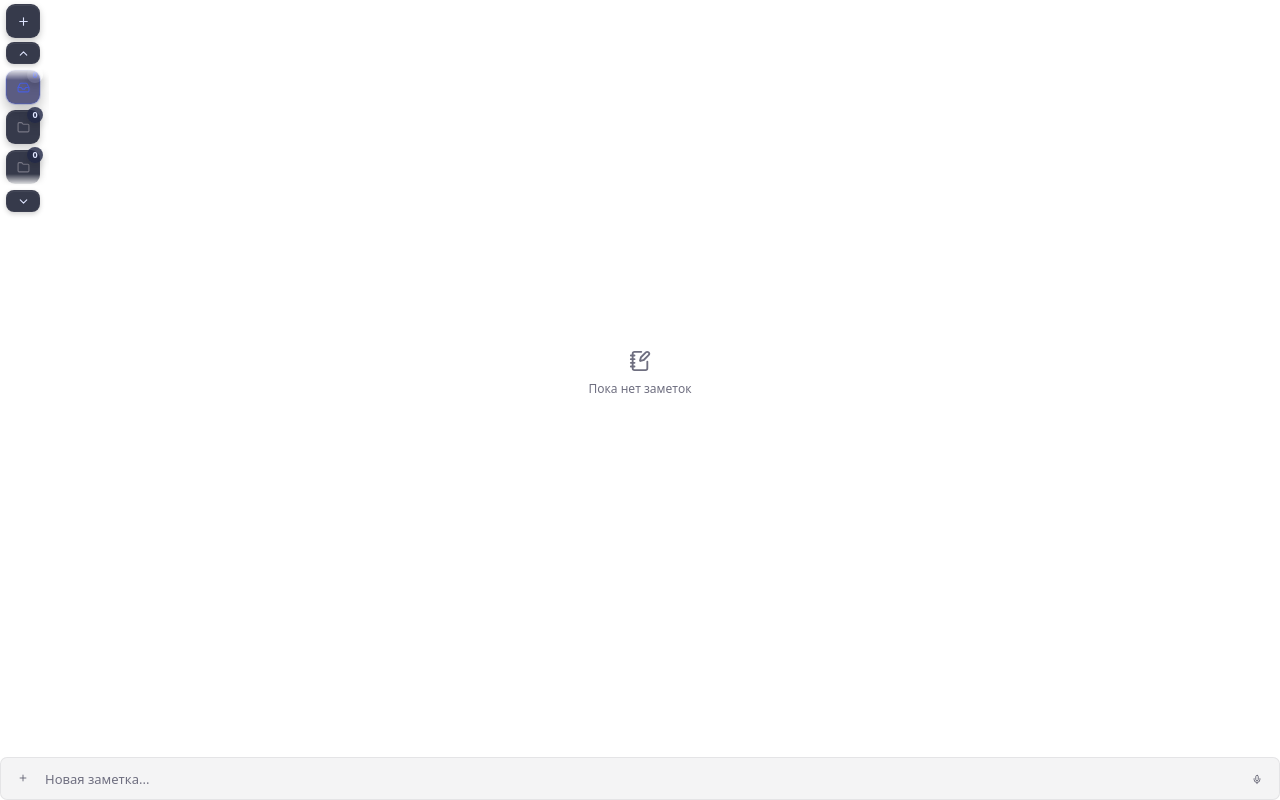
NotesView › adds a note through the quick-add form in the active folder
The image size is (1280, 800).
Expected: the 1st button titled "Все" is shown, [6,70,40,104]
Step 1. Click the 3rd button titled "Проект" → (23, 167), box [6,150,40,184]
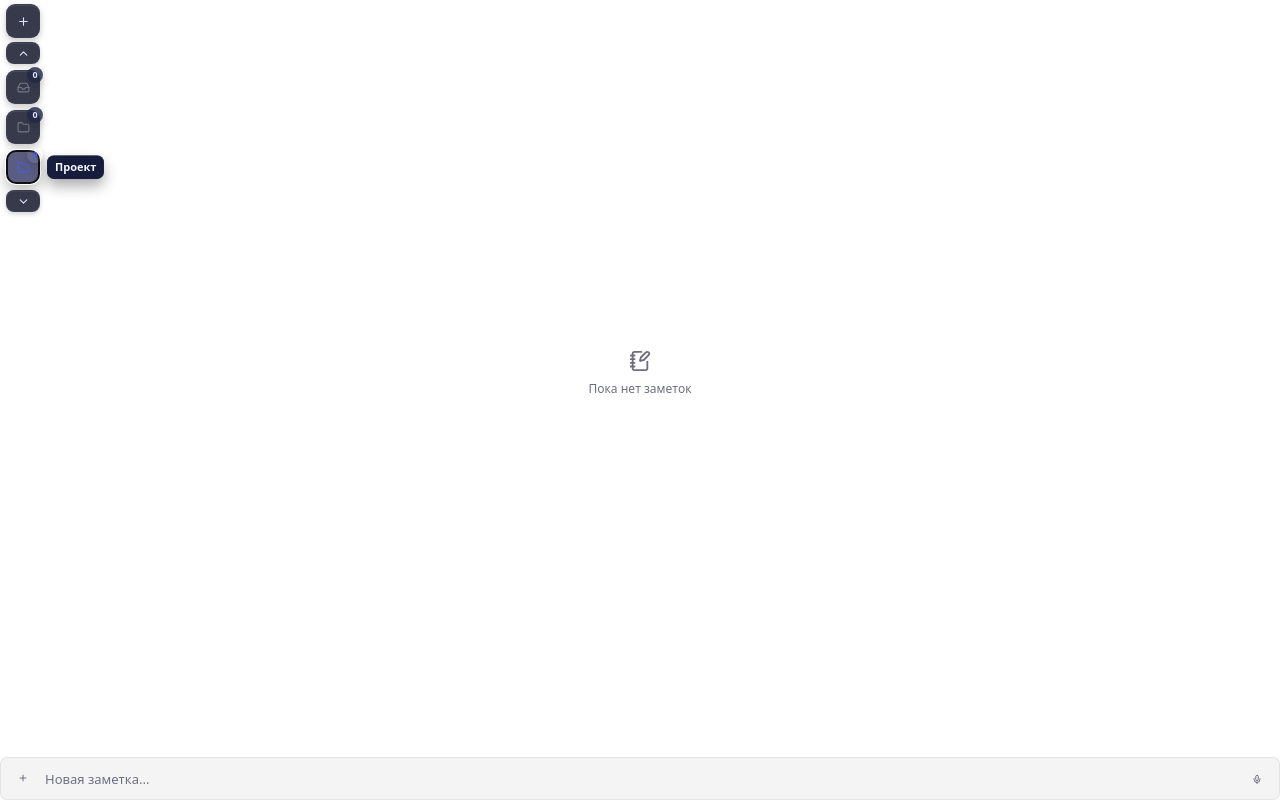
Step 2. Type "Новая заметка" into the text box with placeholder "Новая заметка..." → (640, 780), box [43,770,1237,791]
Then press Enter
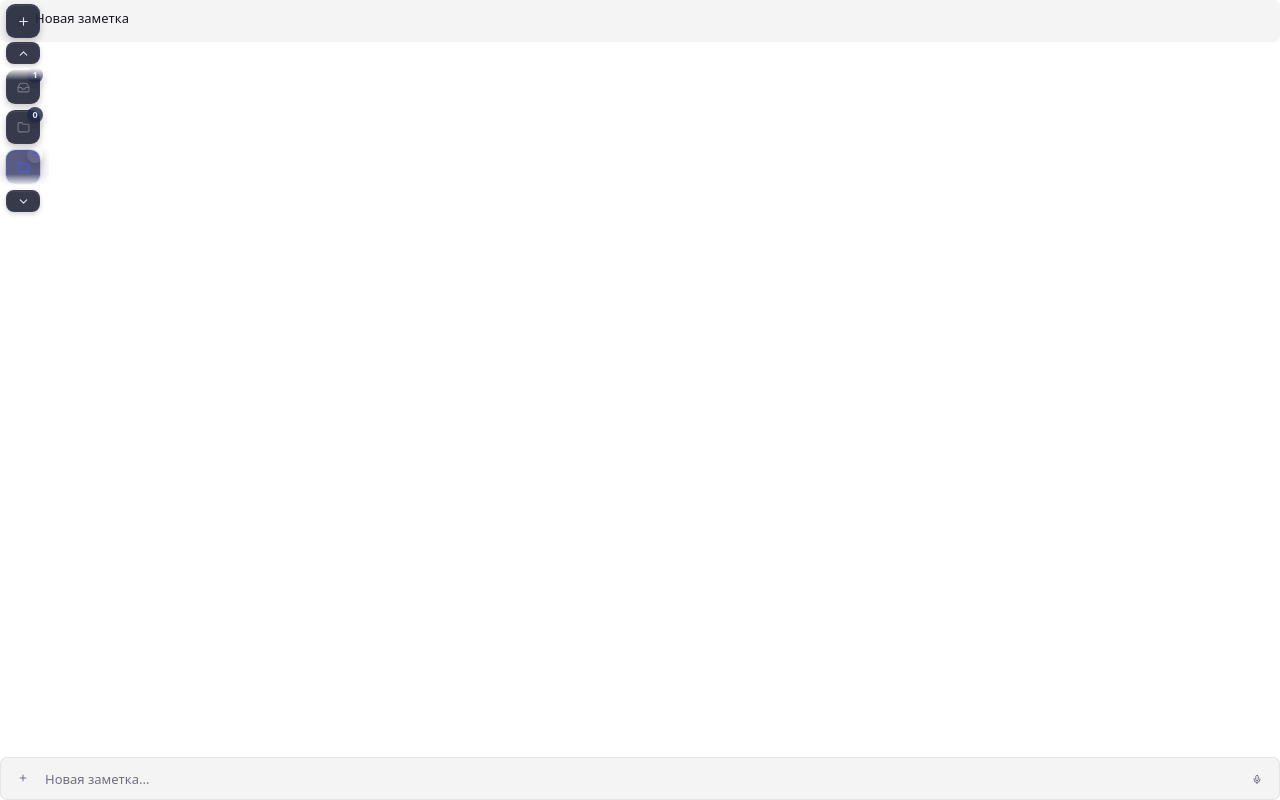
Result: the button "Новая заметка" is shown at [35,9,1187,27]
